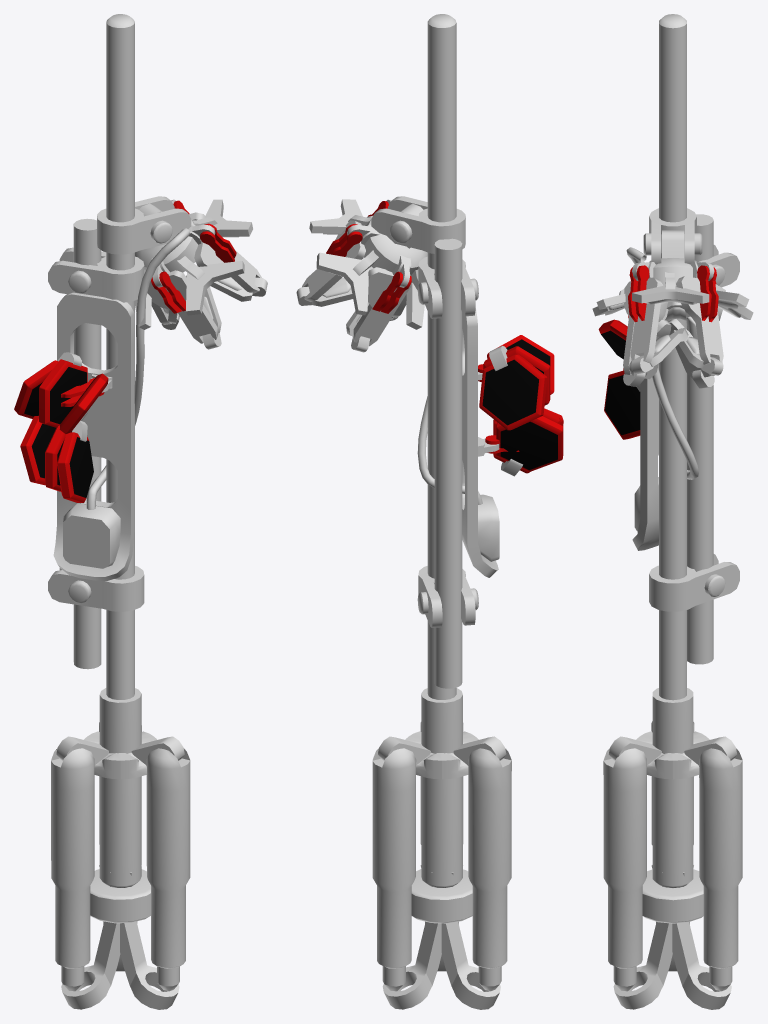
The model's file is SM_Light_Stand_Folded.FBX.
3 renders of one model, left to right at view 1: azimuth 30°, elevation 25°; view 2: azimuth 150°, elevation 25°; view 3: azimuth 270°, elevation 25°, orthographic.
Visible parts, largest first — view 1: Light_Stand_Folded; view 2: Light_Stand_Folded; view 3: Light_Stand_Folded.
Part boxes in pixels (x1,y1,x2,y2): Light_Stand_Folded: (14, 14, 267, 1009); Light_Stand_Folded: (296, 14, 563, 1009); Light_Stand_Folded: (592, 14, 753, 1009).
Bounding box in the file's own units: 71.27 × 275 × 41.17.
